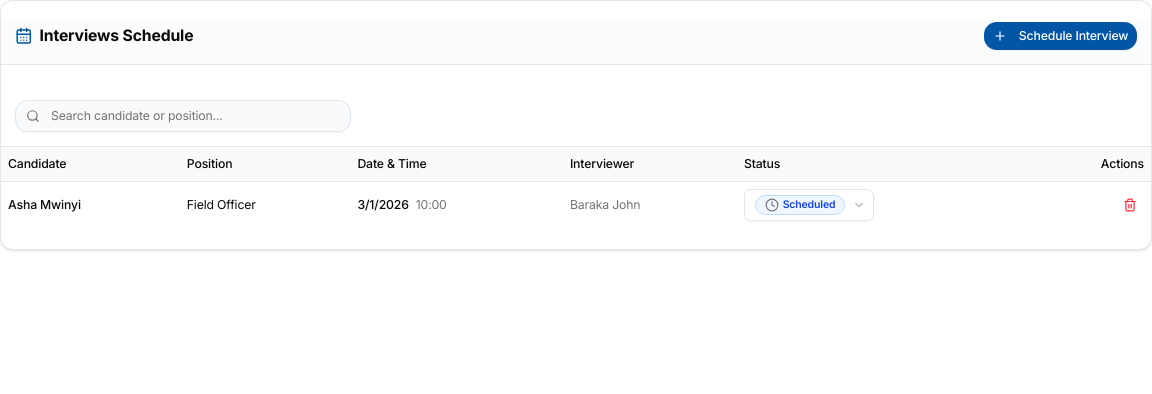
Test: HRInterviewsSubtab › changes status via the row's select and applies the server's response
This screenshot has width=1152, height=394.
Click the dropdown at [809, 205], box x1=744 y1=189 x2=874 y2=220
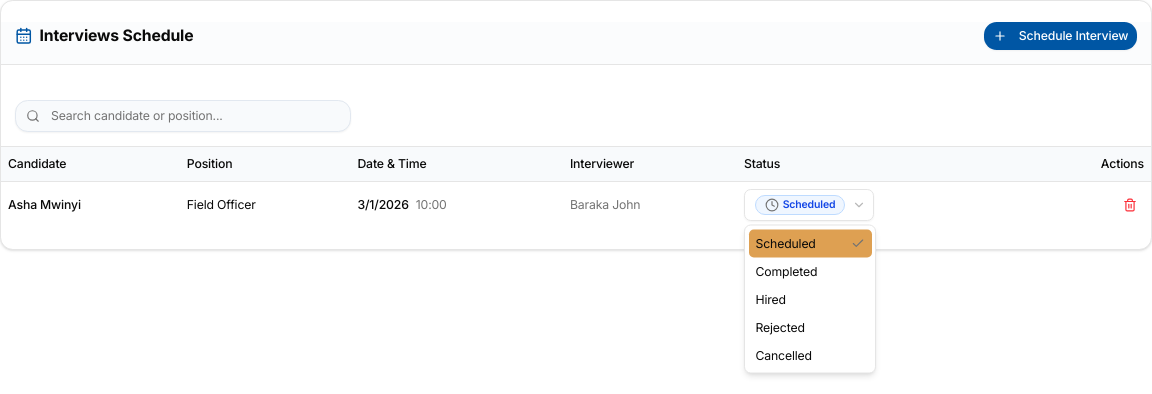
Click the option "Completed" at [786, 271], box x1=756 y1=263 x2=817 y2=278
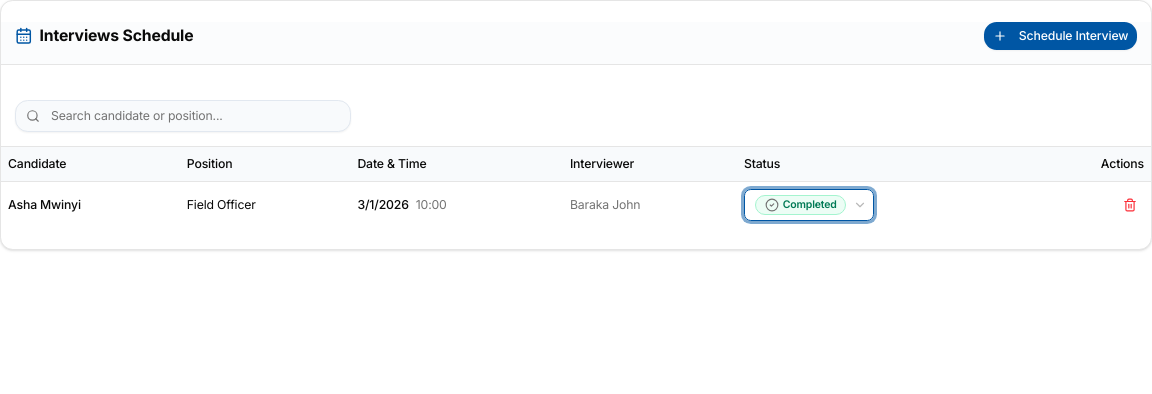
Expected: the text "Completed" is shown, x1=755 y1=195 x2=846 y2=214
